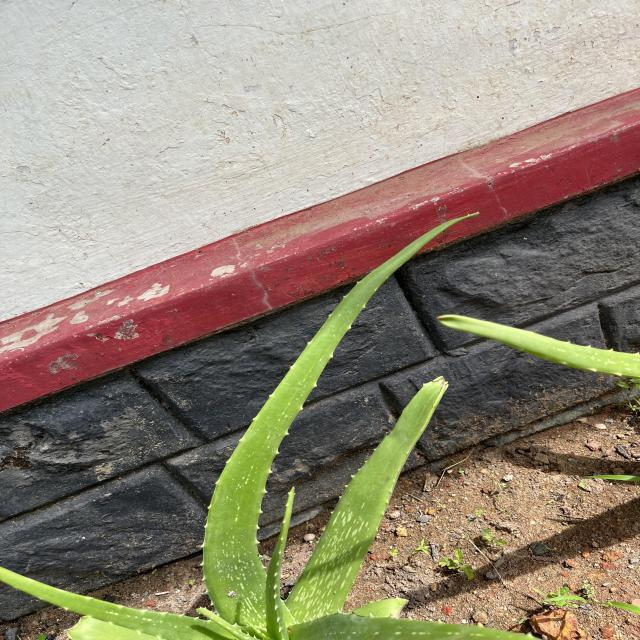Aloe vera: (280, 370, 453, 623)
